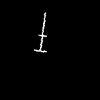double_crochet: (35, 13, 46, 51)
